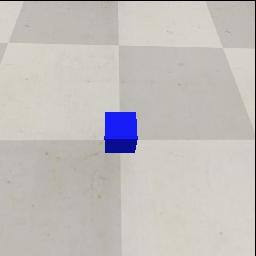box: (104, 112, 138, 153)
